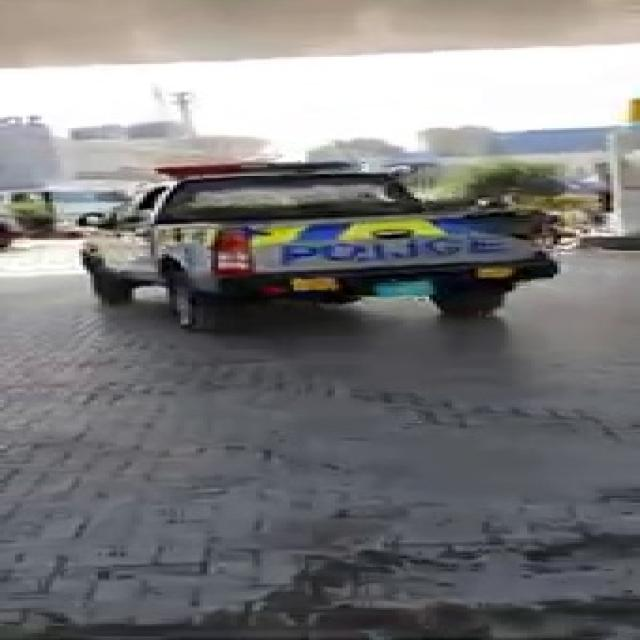police: (114, 157, 553, 324)
